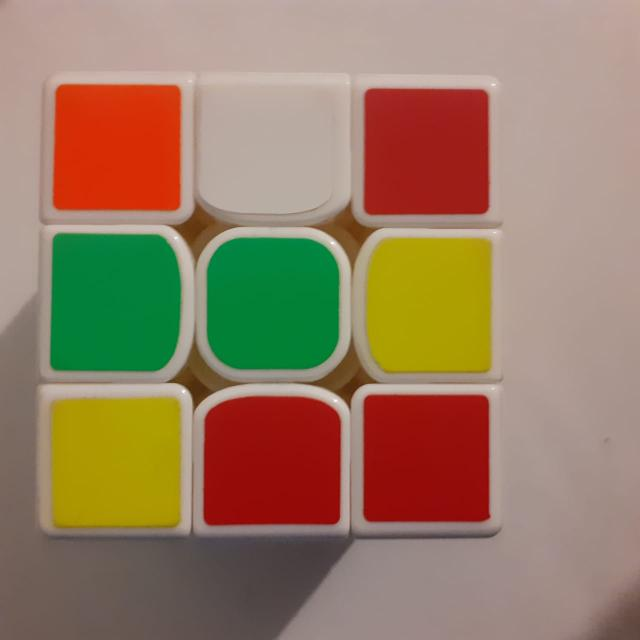Green: (42, 228, 190, 380), (201, 232, 349, 378)
Orange: (46, 72, 192, 222)
Red: (203, 392, 347, 536), (356, 386, 494, 532), (359, 84, 497, 224)
White: (198, 77, 350, 217)
Yellow: (43, 389, 187, 538), (359, 237, 501, 385)
